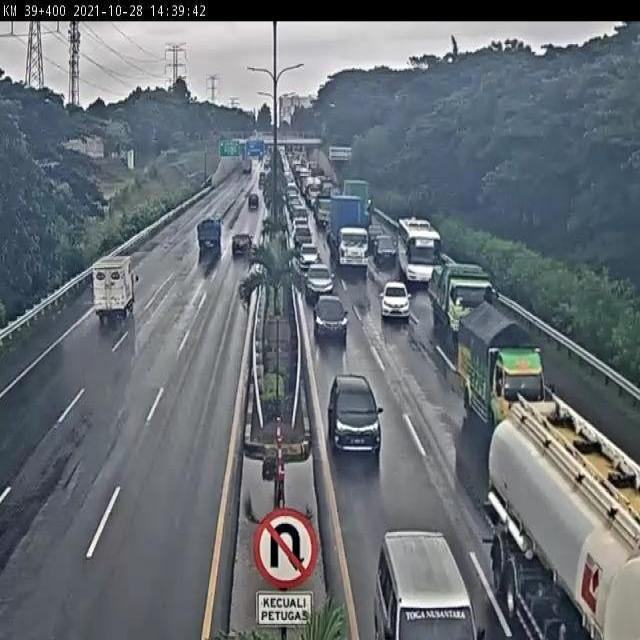car: (324, 370, 382, 450), (310, 295, 349, 343), (304, 260, 332, 299), (378, 283, 410, 317), (225, 236, 252, 263), (371, 229, 394, 259), (297, 236, 320, 263), (242, 197, 259, 219)
truck: (485, 406, 640, 640), (453, 311, 551, 429), (429, 261, 496, 332), (73, 265, 127, 343), (328, 191, 367, 268), (398, 219, 438, 284), (195, 219, 220, 257)
